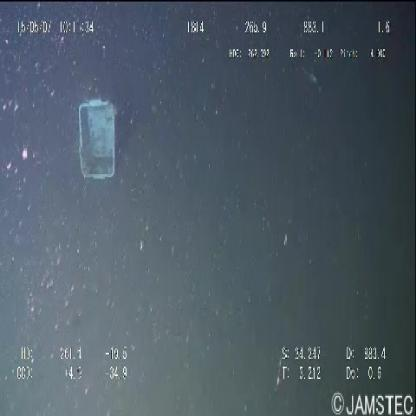Rác: (72, 96, 120, 186)
